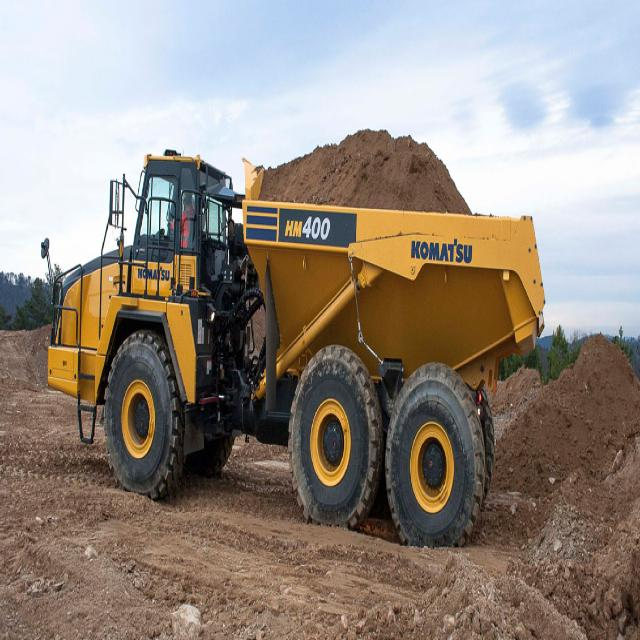dump_truck: (40, 103, 538, 546)
